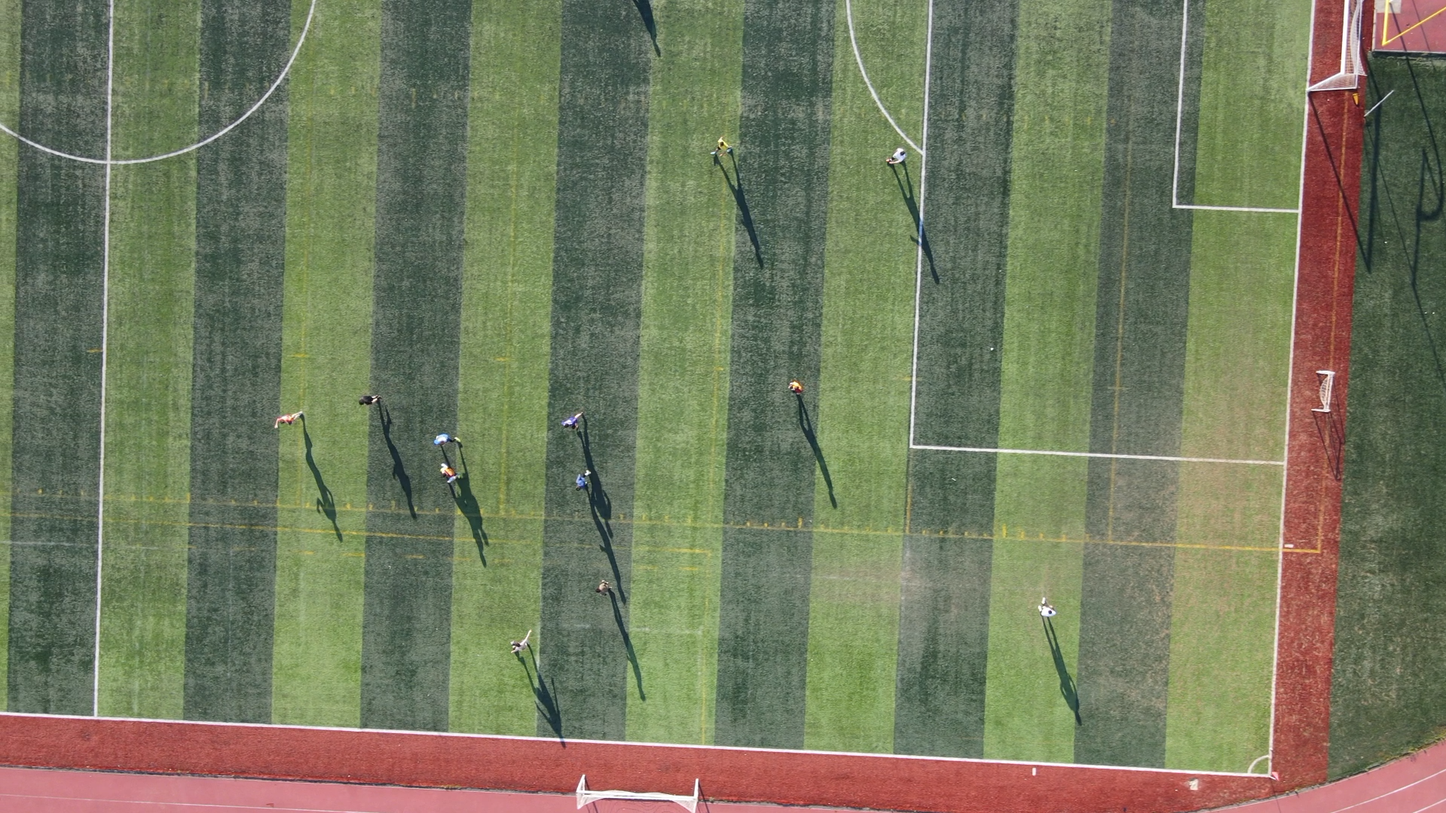person: (435, 460, 470, 489), (560, 407, 592, 433), (273, 408, 307, 432), (510, 628, 533, 657), (1036, 596, 1059, 621), (709, 136, 734, 158), (573, 469, 594, 495), (433, 433, 464, 450), (887, 149, 911, 169), (596, 580, 615, 601), (358, 394, 385, 407), (786, 381, 805, 399)
